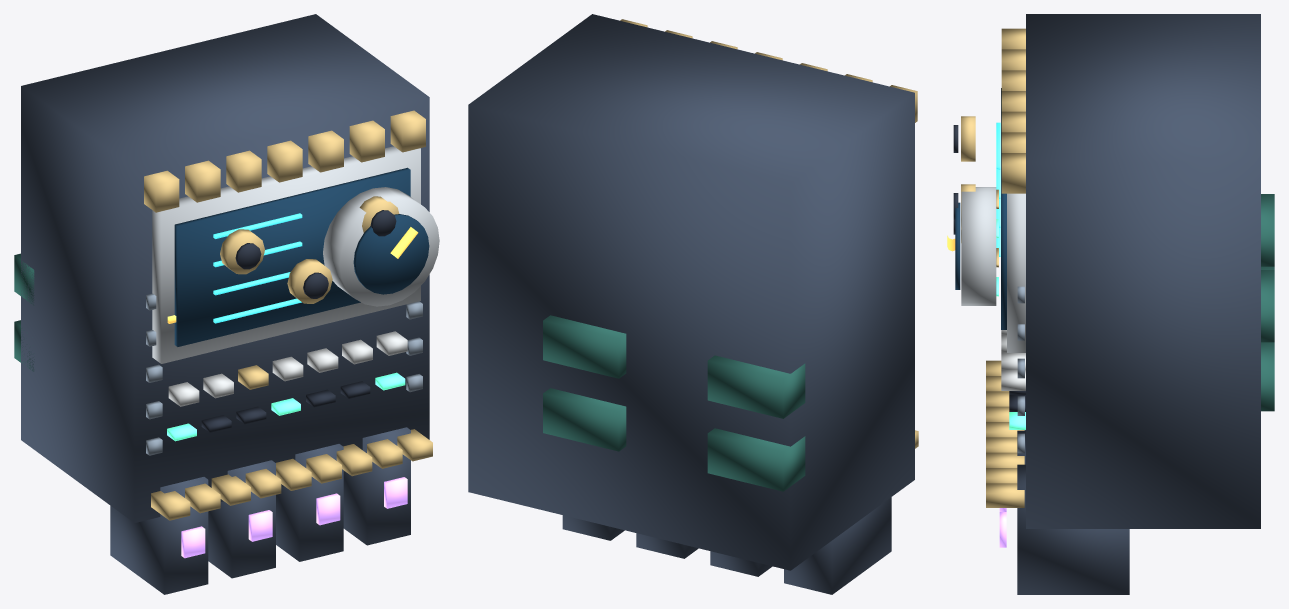
Rendered from 65_L91_NavigationCovarianceEstimator.glb.
The picture shows the model from 3 angles, left to right: view 1: azimuth 30°, elevation 25°; view 2: azimuth 150°, elevation 25°; view 3: azimuth 270°, elevation 25°; orthographic projection. The views are drawn at different scales.
Parts seen in each view (by area): view 1: L91_NavigationCovarianceEstim_Part_0000, L91_NavigationCovarianceEstim_Part_0002, L91_NavigationCovarianceEstim_Part_0001, L91_NavigationCovarianceEstim_Part_0004, L91_NavigationCovarianceEstim_Part_0007, L91_NavigationCovarianceEstim_Part_0013, L91_NavigationCovarianceEstim_Part_0005, L91_NavigationCovarianceEstim_Part_0009, L91_NavigationCovarianceEstim_Part_0003, L91_NavigationCovarianceEstim_Part_0008, L91_NavigationCovarianceEstim_Part_0006, L91_NavigationCovarianceEstim_Part_0010 (+3 smaller); view 2: L91_NavigationCovarianceEstim_Part_0000, L91_NavigationCovarianceEstim_Part_0010; view 3: L91_NavigationCovarianceEstim_Part_0000, L91_NavigationCovarianceEstim_Part_0001, L91_NavigationCovarianceEstim_Part_0004, L91_NavigationCovarianceEstim_Part_0010, L91_NavigationCovarianceEstim_Part_0005, L91_NavigationCovarianceEstim_Part_0002, L91_NavigationCovarianceEstim_Part_0007, L91_NavigationCovarianceEstim_Part_0009, L91_NavigationCovarianceEstim_Part_0014, L91_NavigationCovarianceEstim_Part_0003.
Boxes of the visible parts, x1=… form: L91_NavigationCovarianceEstim_Part_0000: x1=21, y1=14, x2=429, y2=594; L91_NavigationCovarianceEstim_Part_0002: x1=174, y1=167, x2=429, y2=346; L91_NavigationCovarianceEstim_Part_0001: x1=152, y1=146, x2=439, y2=363; L91_NavigationCovarianceEstim_Part_0004: x1=144, y1=130, x2=432, y2=520; L91_NavigationCovarianceEstim_Part_0007: x1=168, y1=331, x2=407, y2=406; L91_NavigationCovarianceEstim_Part_0013: x1=181, y1=477, x2=407, y2=558; L91_NavigationCovarianceEstim_Part_0005: x1=349, y1=110, x2=425, y2=162; L91_NavigationCovarianceEstim_Part_0009: x1=146, y1=293, x2=422, y2=455; L91_NavigationCovarianceEstim_Part_0003: x1=213, y1=213, x2=302, y2=323; L91_NavigationCovarianceEstim_Part_0008: x1=201, y1=381, x2=370, y2=432; L91_NavigationCovarianceEstim_Part_0006: x1=167, y1=372, x2=405, y2=441; L91_NavigationCovarianceEstim_Part_0010: x1=14, y1=253, x2=34, y2=371; L91_NavigationCovarianceEstim_Part_0000: x1=468, y1=14, x2=914, y2=594; L91_NavigationCovarianceEstim_Part_0010: x1=543, y1=315, x2=805, y2=491; L91_NavigationCovarianceEstim_Part_0000: x1=1017, y1=14, x2=1260, y2=594; L91_NavigationCovarianceEstim_Part_0001: x1=961, y1=187, x2=1025, y2=352; L91_NavigationCovarianceEstim_Part_0004: x1=986, y1=28, x2=1025, y2=507; L91_NavigationCovarianceEstim_Part_0010: x1=1261, y1=194, x2=1274, y2=411; L91_NavigationCovarianceEstim_Part_0005: x1=1001, y1=132, x2=1025, y2=193; L91_NavigationCovarianceEstim_Part_0002: x1=955, y1=88, x2=1006, y2=329; L91_NavigationCovarianceEstim_Part_0007: x1=1001, y1=330, x2=1025, y2=390; L91_NavigationCovarianceEstim_Part_0009: x1=1017, y1=286, x2=1024, y2=453; L91_NavigationCovarianceEstim_Part_0014: x1=961, y1=116, x2=975, y2=161; L91_NavigationCovarianceEstim_Part_0003: x1=996, y1=122, x2=1000, y2=256.
Bounding box in the file's own units: 1 × 1.4 × 0.9343.
